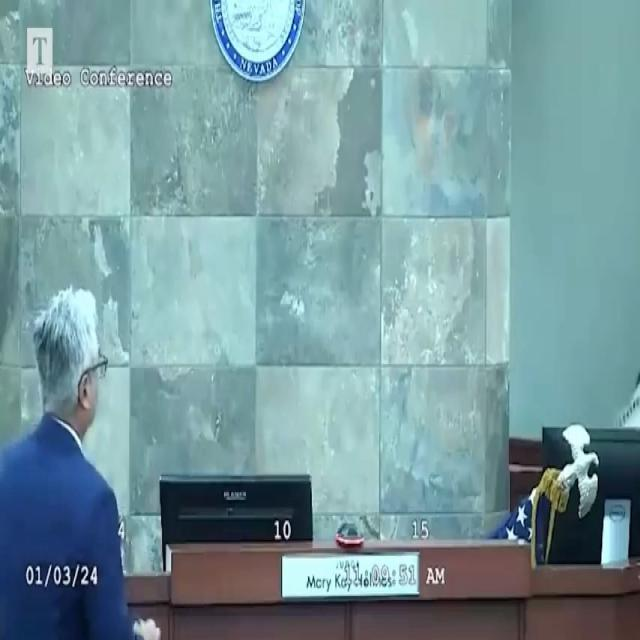non-fight: (2, 281, 136, 640)
